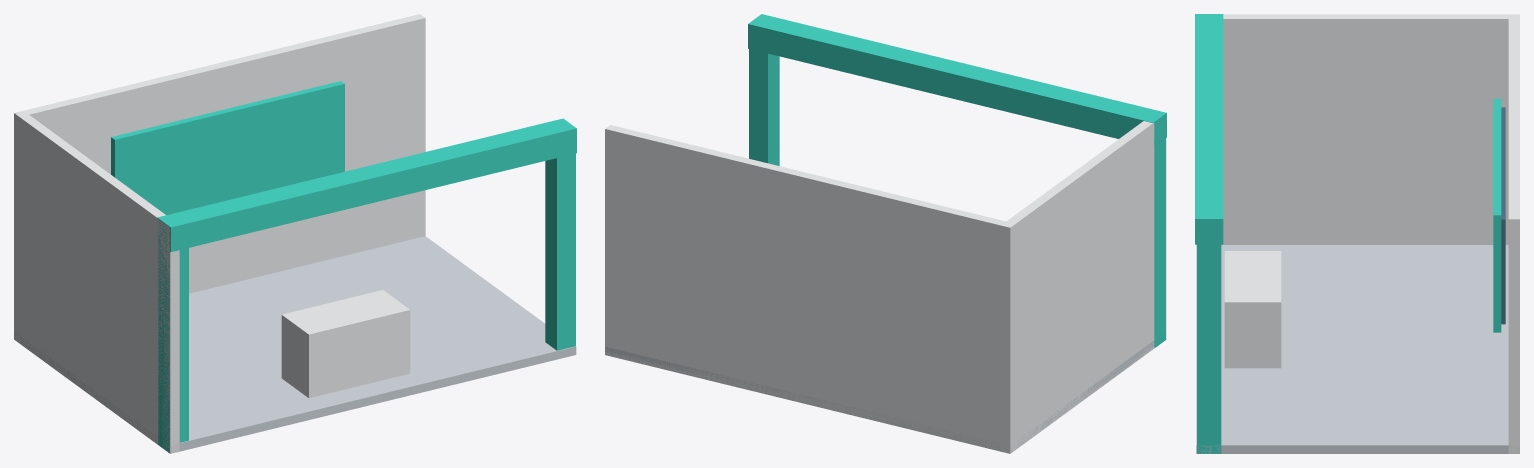
3 views of the same model, side by side, from view 1: azimuth 30°, elevation 25°; view 2: azimuth 150°, elevation 25°; view 3: azimuth 270°, elevation 25° (orthographic). The views are drawn at different scales.
Visible parts, largest first — view 1: Exhibition Booth Concept; view 2: Exhibition Booth Concept; view 3: Exhibition Booth Concept.
Boxes of the visible parts, x1=… form: Exhibition Booth Concept: x1=14, y1=14, x2=576, y2=453; Exhibition Booth Concept: x1=605, y1=14, x2=1166, y2=453; Exhibition Booth Concept: x1=1195, y1=14, x2=1519, y2=453.
Size of the model in its own units: 6 by 3.2 by 4.02.
